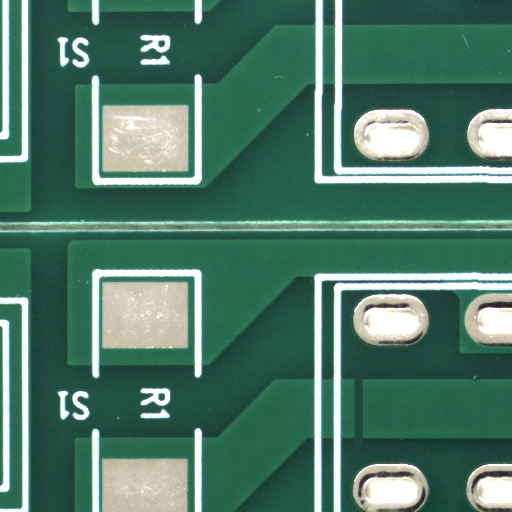Open_circuit: (358, 408, 369, 474)
